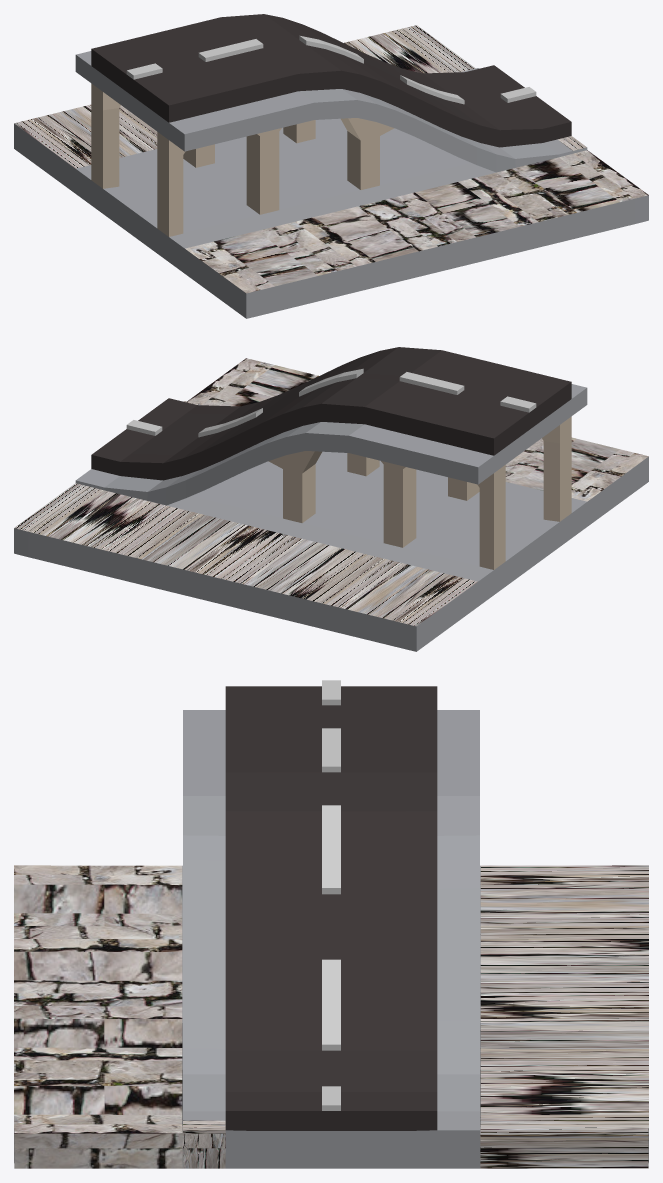
File: rampa1.glb
The picture shows the model from 3 angles, top to bottom: view 1: azimuth 30°, elevation 25°; view 2: azimuth 150°, elevation 25°; view 3: azimuth 270°, elevation 25°; orthographic projection. The views are drawn at different scales.
Visible parts, largest first — view 1: Street_Bridge_Ramp_Cube.035; view 2: Street_Bridge_Ramp_Cube.035; view 3: Street_Bridge_Ramp_Cube.035.
Part boxes in pixels (x1,y1,x2,y2): Street_Bridge_Ramp_Cube.035: [14, 14, 648, 318]; Street_Bridge_Ramp_Cube.035: [14, 347, 648, 651]; Street_Bridge_Ramp_Cube.035: [14, 680, 648, 1168].
Size of the model in its own units: 2 by 0.7638 by 2.
Materials: 5 (5 with a texture image).
